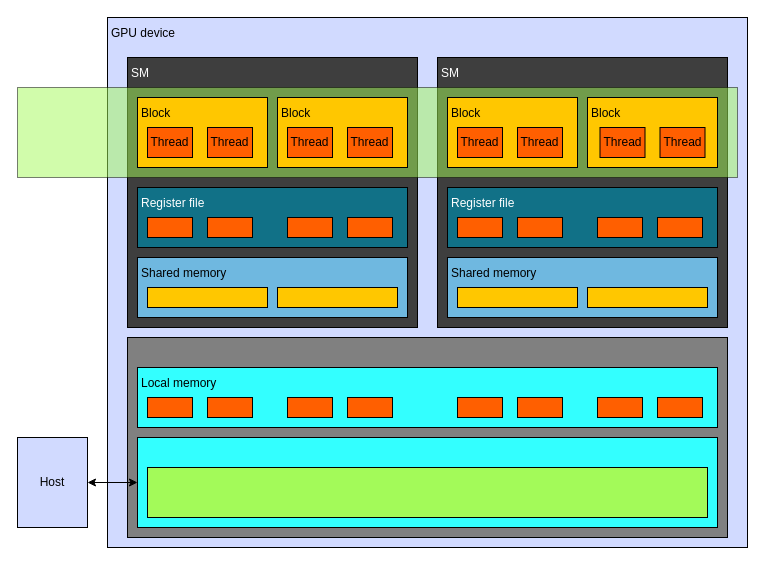
The diagram is 765 pixels wide and 565 high, and some of its shapes have lost their labels. Each missing label, with the box of its shape:
DRAM: (126, 336, 728, 538)
Global memory: (136, 436, 718, 528)
Grid: (16, 86, 738, 178)
